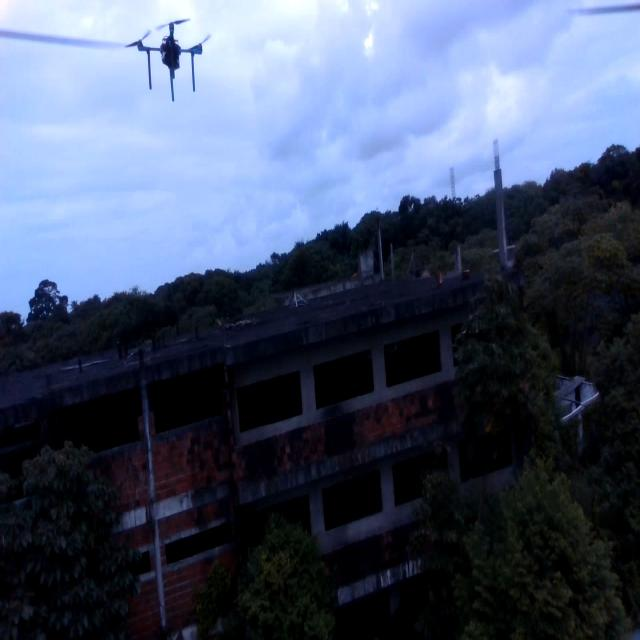-uav-: (118, 12, 221, 108)
